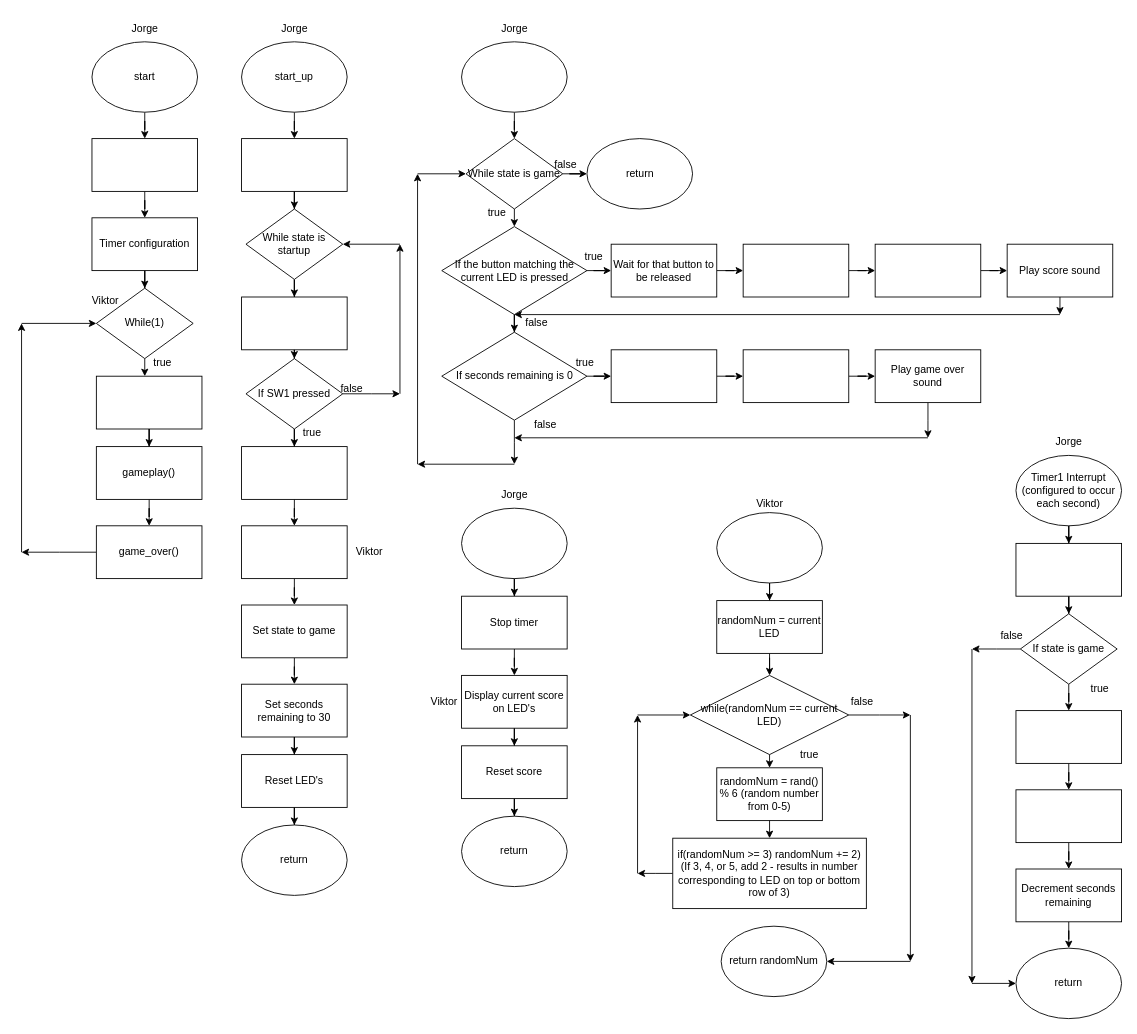
Image size: 1137x1034. Some labels were removed from this diagram. Each missing label, with the centre of its shape:
game_over: (x=514, y=543)
gameplay: (x=514, y=76)
I/O port configuration: (x=144, y=164)
Increment random seed: (x=294, y=323)
Increment score: (x=795, y=270)
Initialize random with seed: (x=294, y=552)
led = randomLED(): (x=1068, y=736)
randomLED: (x=769, y=547)
Reset timer1: (x=1068, y=569)
Set state to gameover: (x=795, y=376)
Set state to startup: (x=294, y=164)
start_up(): (x=148, y=402)
Turn off LED's: (x=663, y=376)
Turn off LED's and set current LED to -1 (disabled): (x=927, y=270)
Turn on corresponding LED: (x=1068, y=816)
Wait for SW1 to be released: (x=294, y=472)
